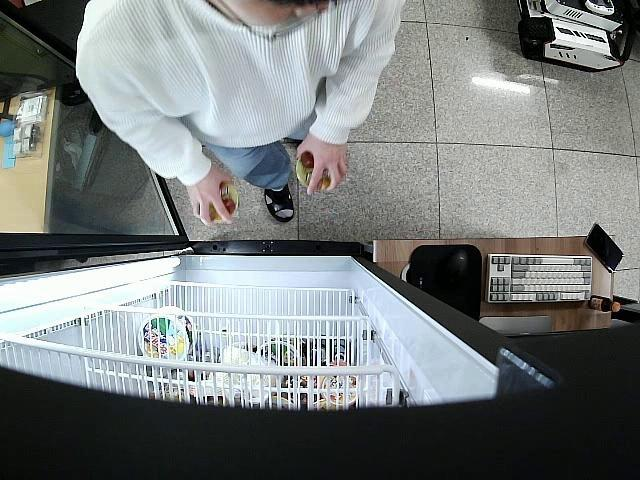04_chapagetti_S: (198, 182, 246, 226), (291, 149, 338, 192)
